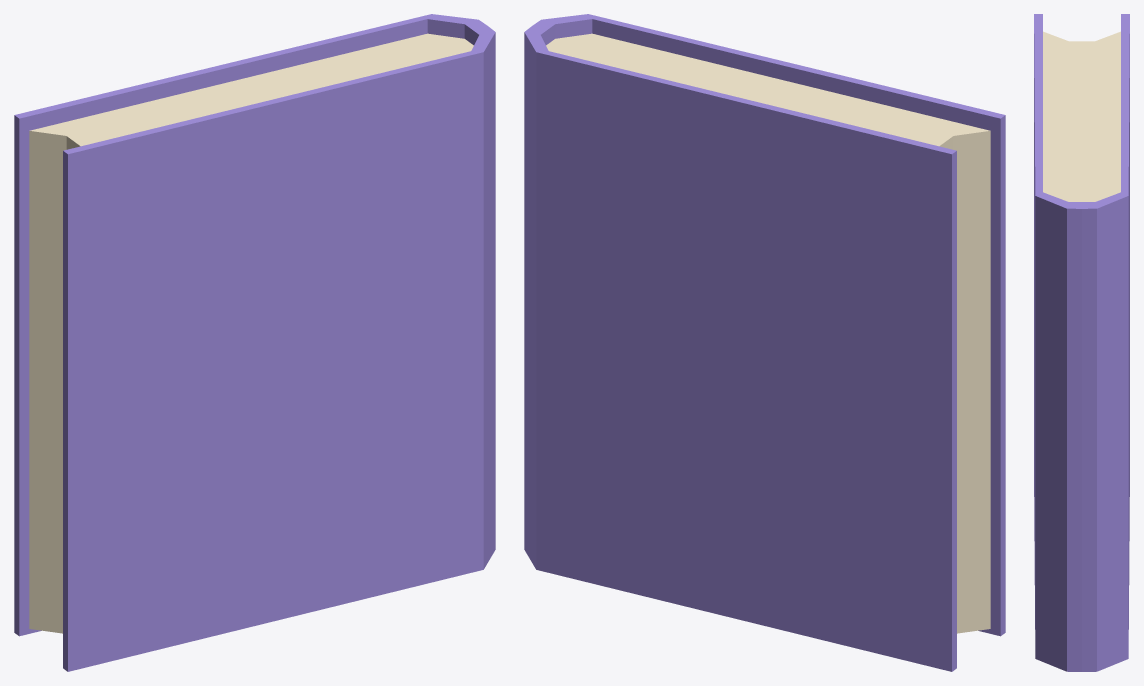
The model's file is Book_03.fbx.
The picture shows the model from 3 angles, left to right: view 1: azimuth 30°, elevation 25°; view 2: azimuth 150°, elevation 25°; view 3: azimuth 270°, elevation 25°; orthographic projection. The views are drawn at different scales.
Visible parts, largest first — view 1: Plane.227; view 2: Plane.227; view 3: Plane.227.
Boxes of the visible parts, x1=… form: Plane.227: x1=14, y1=14, x2=495, y2=671; Plane.227: x1=524, y1=14, x2=1005, y2=671; Plane.227: x1=1034, y1=14, x2=1129, y2=671.
Size of the model in its own units: 0.6274 by 0.1305 by 0.6951.
